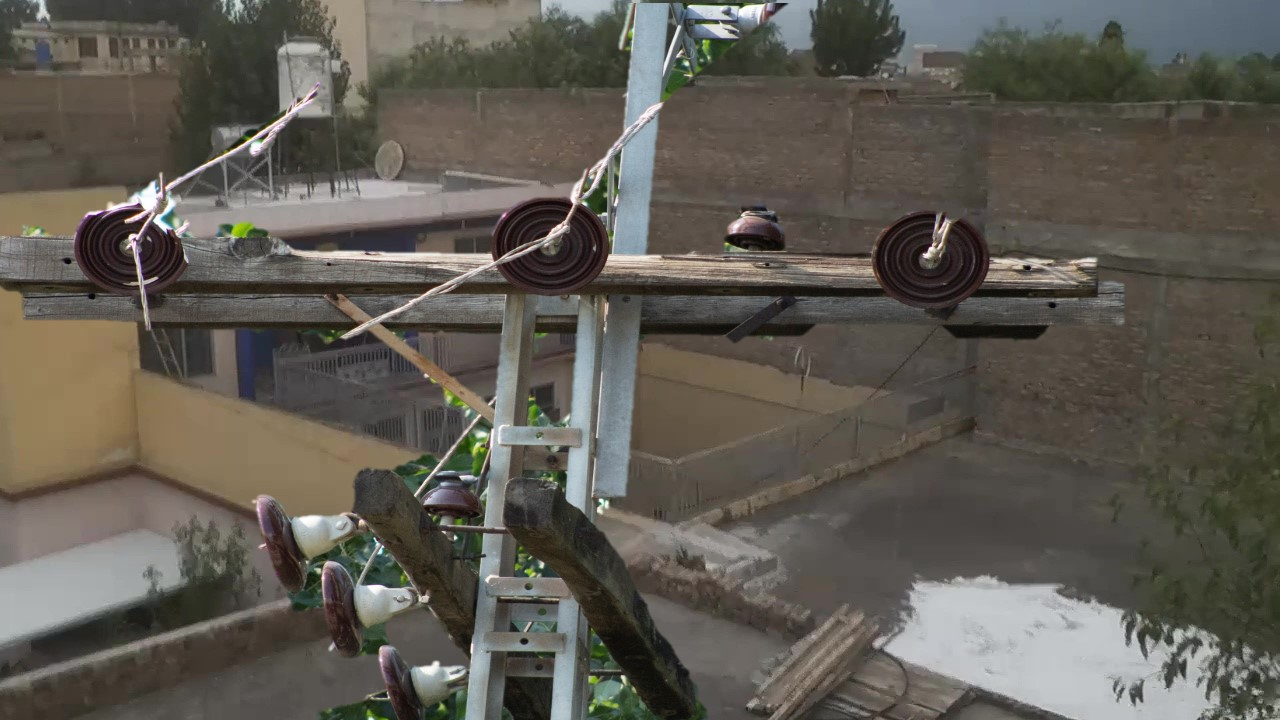defect_disc: (72, 192, 199, 296)
insulator_disc: (488, 189, 617, 302), (870, 207, 994, 320), (247, 486, 315, 605), (318, 554, 375, 661), (379, 637, 450, 714)
insulator_pin: (722, 196, 792, 256), (417, 464, 485, 520)
